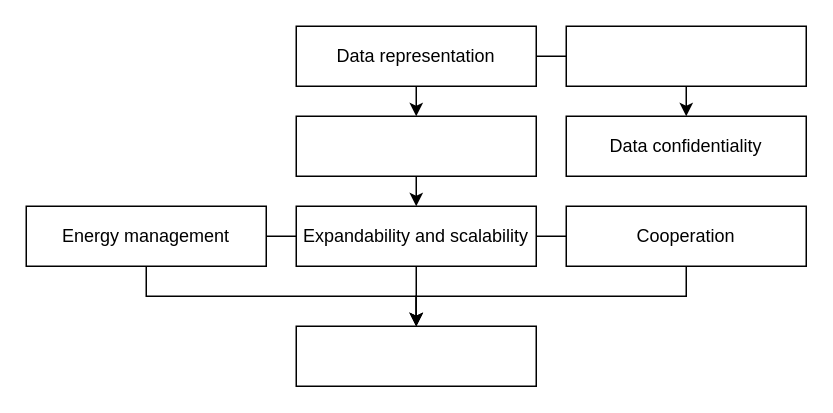
Some shapes in this 833 by 413 pixel diagram are drawn without their labels. Each missing label, with the box of its shape:
Analytical mechanism: (295, 325, 536, 386)
Data lifecycle management: (295, 115, 536, 176)
Redundancy reduction and data compression: (565, 25, 806, 86)
